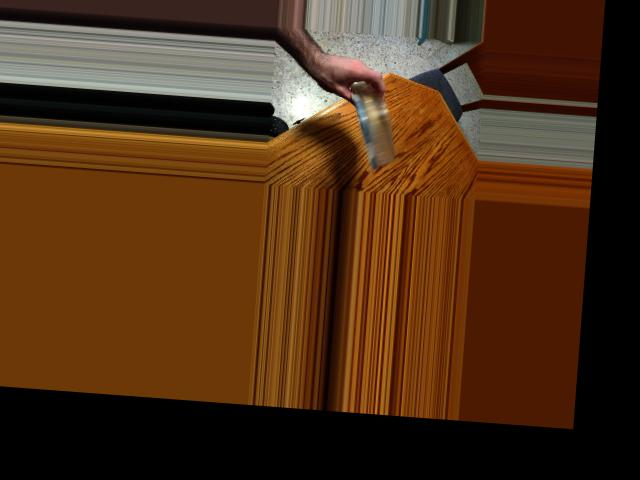cheese: (353, 72, 396, 172)
